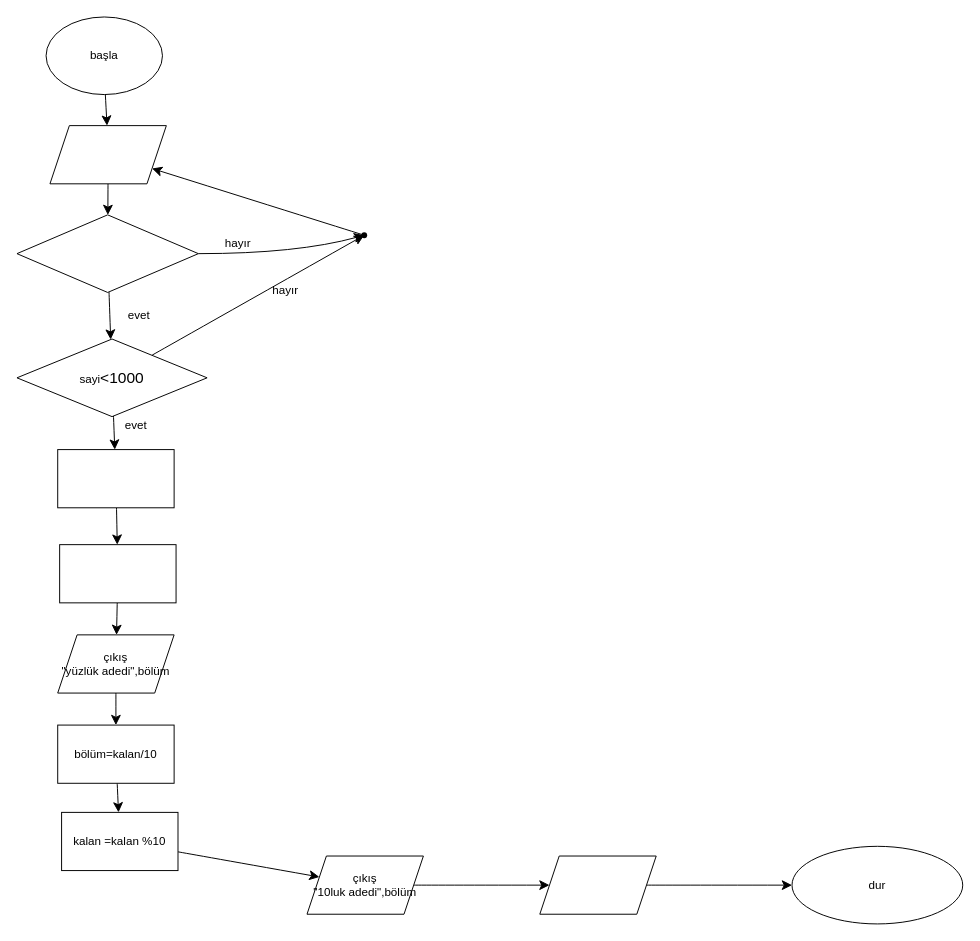
Image size: 980x941. Some labels were removed from this diagram. The shapes that lost their labels are listed below. From the top down, each one's centre as x and y in pixels, then its label:
the point at 107,154: giriş "sayı giriniz",sayi
the point at 107,253: sayi >99
the point at 115,478: bölüm =sayi/100
the point at 117,573: kalan=sayi%100
